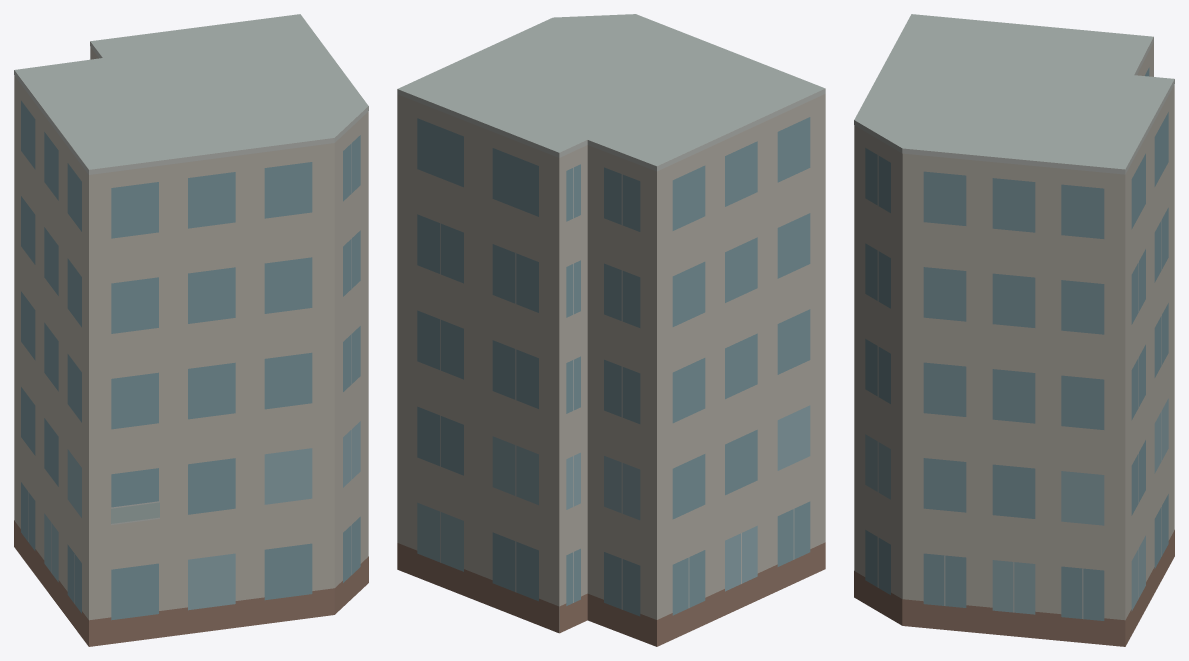
Rendered from survey-upis-32907746.glb.
The picture shows the model from 3 angles, left to right: view 1: azimuth 30°, elevation 25°; view 2: azimuth 150°, elevation 25°; view 3: azimuth 270°, elevation 25°; orthographic projection.
Visible parts, largest first — view 1: survey-upis-32907746.tmp; view 2: survey-upis-32907746.tmp; view 3: survey-upis-32907746.tmp.
Part boxes in pixels (left/top/right/bottom): survey-upis-32907746.tmp: left=14, top=14, right=368, bottom=646; survey-upis-32907746.tmp: left=397, top=14, right=825, bottom=646; survey-upis-32907746.tmp: left=854, top=14, right=1174, bottom=646.
Size of the model in its own units: 15.86 by 22.7 by 13.83.
